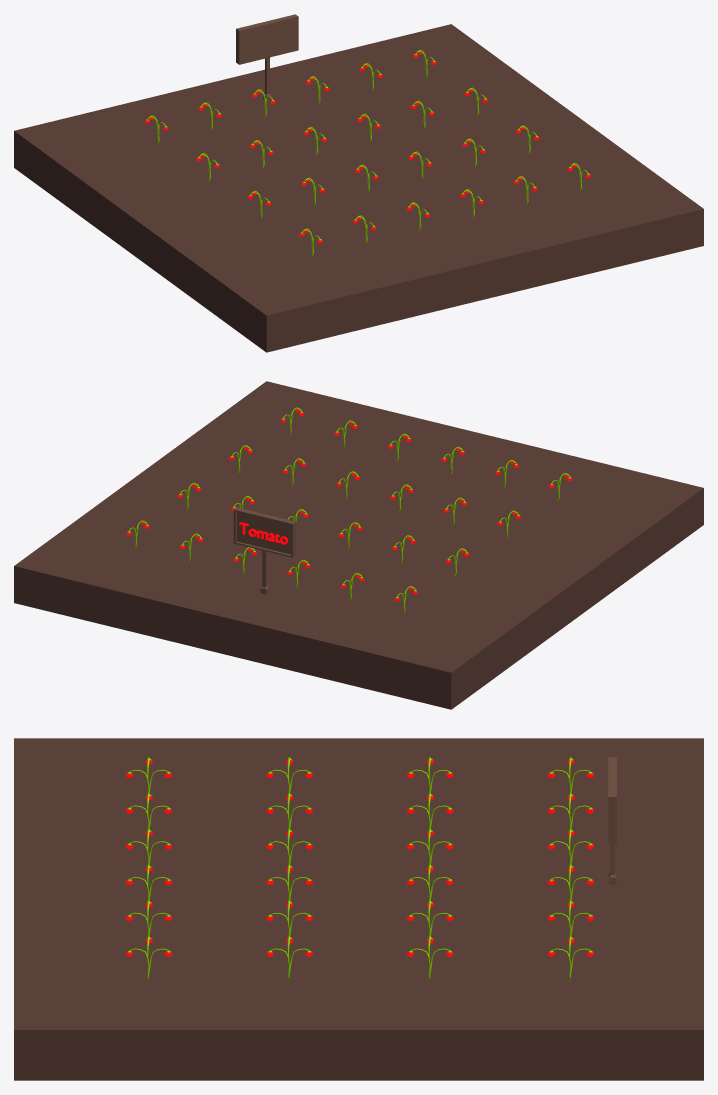
The model's file is Tomato_A.fbx.
3 renders of one model, top to bottom at view 1: azimuth 30°, elevation 25°; view 2: azimuth 150°, elevation 25°; view 3: azimuth 270°, elevation 25°, orthographic. The views are drawn at different scales.
Visible parts, largest first — view 1: Cube.046, Plane.028, Cube.045; view 2: Cube.046, Plane.028, Cube.045; view 3: Cube.046, Plane.028, Cube.045.
Part boxes in pixels (box(x1,y1,x2,y2)): Cube.046: box(14, 24, 703, 352); Plane.028: box(144, 49, 590, 256); Cube.045: box(236, 14, 298, 101); Cube.046: box(14, 381, 703, 709); Plane.028: box(126, 407, 572, 613); Cube.045: box(233, 507, 295, 594); Cube.046: box(14, 738, 703, 1080); Plane.028: box(125, 757, 594, 981); Cube.045: box(608, 757, 616, 884).
Bounding box in the file's own units: 2690 × 681 × 2690.
